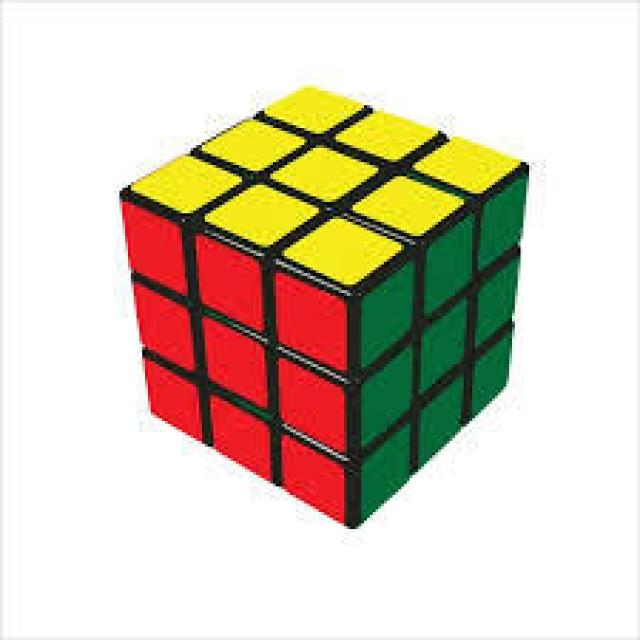Cubo-Resuelto: (119, 88, 523, 518)
